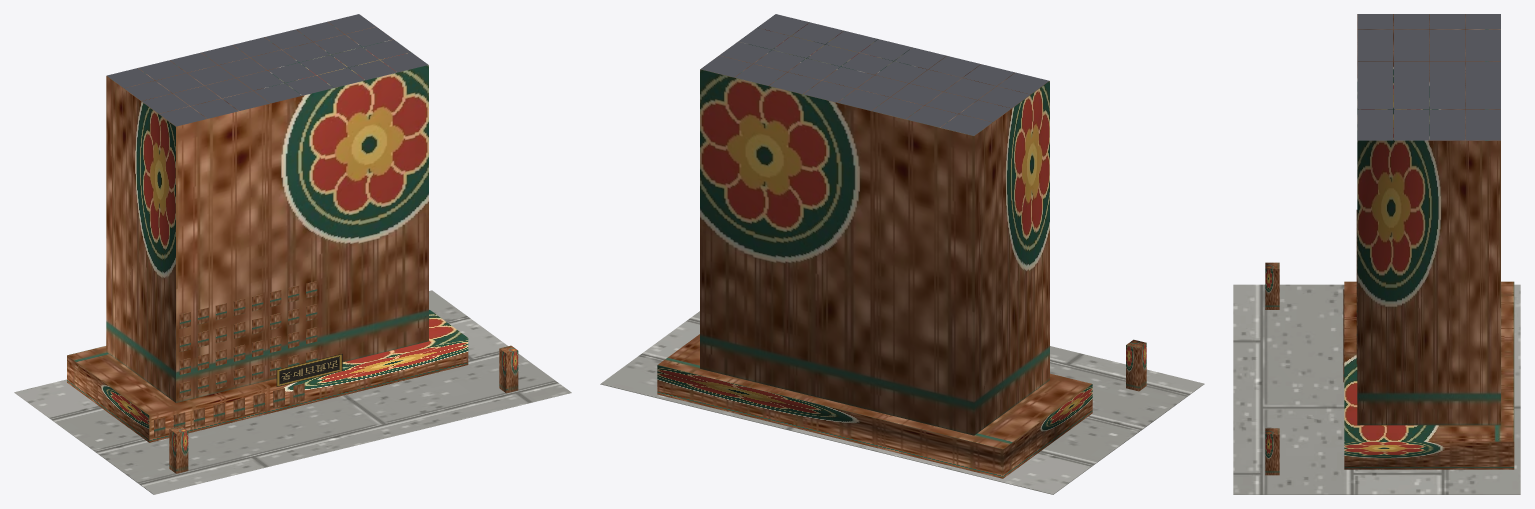
3 views of the same model, side by side, from view 1: azimuth 30°, elevation 25°; view 2: azimuth 150°, elevation 25°; view 3: azimuth 270°, elevation 25° (orthographic). The views are drawn at different scales.
Visible parts, largest first — view 1: 11140_02_04533_015_02_L2__body, 11140_02_04533_015_01_L2__base, 11140_02_04533_015_03_L2__roof, 11140_02_04533_015_05_L2__openings, 11140_02_04533_015_06_L2__green, 11140_02_04533_015_04_L2__sign; view 2: 11140_02_04533_015_02_L2__body, 11140_02_04533_015_03_L2__roof, 11140_02_04533_015_01_L2__base, 11140_02_04533_015_06_L2__green; view 3: 11140_02_04533_015_02_L2__body, 11140_02_04533_015_01_L2__base, 11140_02_04533_015_03_L2__roof, 11140_02_04533_015_06_L2__green, 11140_02_04533_015_05_L2__openings.
Part boxes in pixels (x1,y1,x2,y2): 11140_02_04533_015_02_L2__body: (67, 22, 468, 442); 11140_02_04533_015_01_L2__base: (14, 290, 571, 494); 11140_02_04533_015_03_L2__roof: (107, 14, 428, 126); 11140_02_04533_015_05_L2__openings: (154, 281, 317, 437); 11140_02_04533_015_06_L2__green: (169, 345, 518, 473); 11140_02_04533_015_04_L2__sign: (276, 354, 342, 386); 11140_02_04533_015_02_L2__body: (657, 22, 1092, 478); 11140_02_04533_015_03_L2__roof: (700, 14, 1049, 135); 11140_02_04533_015_01_L2__base: (600, 311, 1204, 494); 11140_02_04533_015_06_L2__green: (1126, 339, 1146, 391); 11140_02_04533_015_02_L2__body: (1344, 14, 1514, 469); 11140_02_04533_015_01_L2__base: (1233, 284, 1520, 494); 11140_02_04533_015_03_L2__roof: (1357, 14, 1500, 140); 11140_02_04533_015_06_L2__green: (1265, 262, 1279, 475); 11140_02_04533_015_05_L2__openings: (1343, 210, 1357, 382).
Size of the model in its own units: 76 by 52.82 by 44.
Materials: 5 (5 with a texture image).
